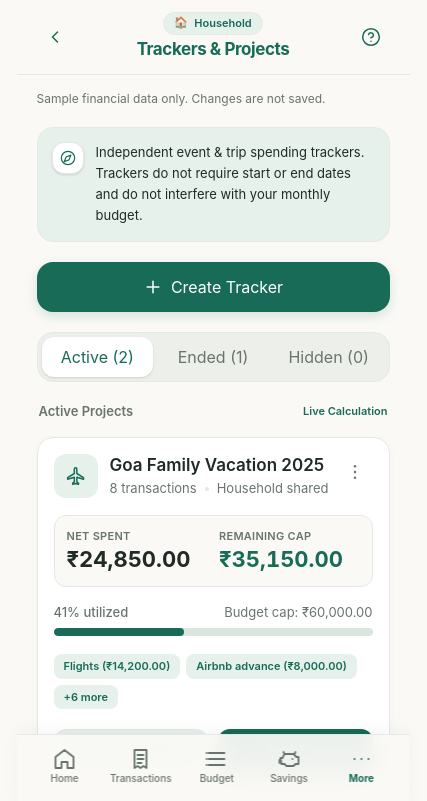
TrackersScreen rendering › switches to Ended tab and shows ended trackers
This screenshot has width=427, height=801.
Click the button "Ended (1)".
click(213, 356)  # box [157,336,269,376]
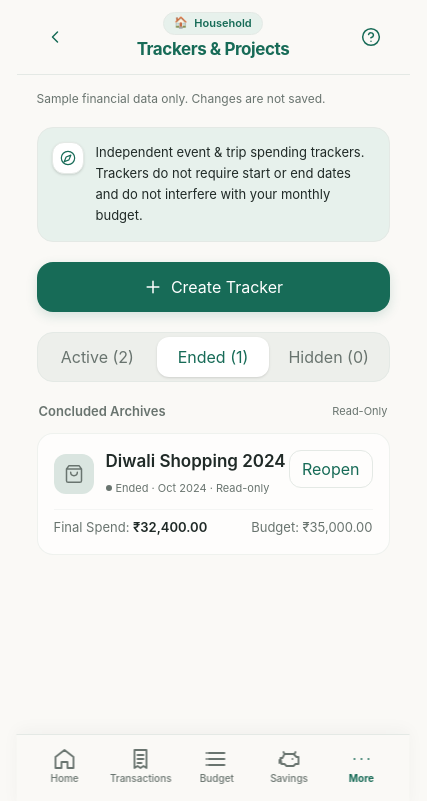
Check: the heading "Diwali Shopping 2024" is shown, box [106,450,286,473]
Check: the text "Read-Only" is shown, box [332,403,388,420]
